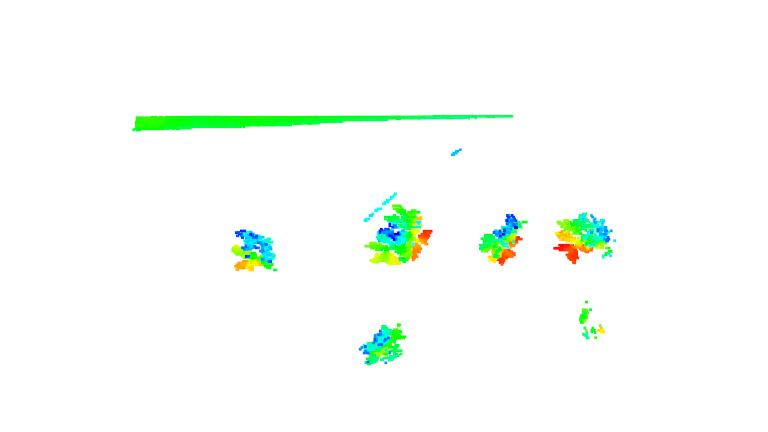chickpea: (364, 202, 433, 268), (553, 212, 616, 265), (478, 211, 528, 266), (227, 224, 280, 274), (357, 322, 407, 366), (577, 300, 608, 341)
